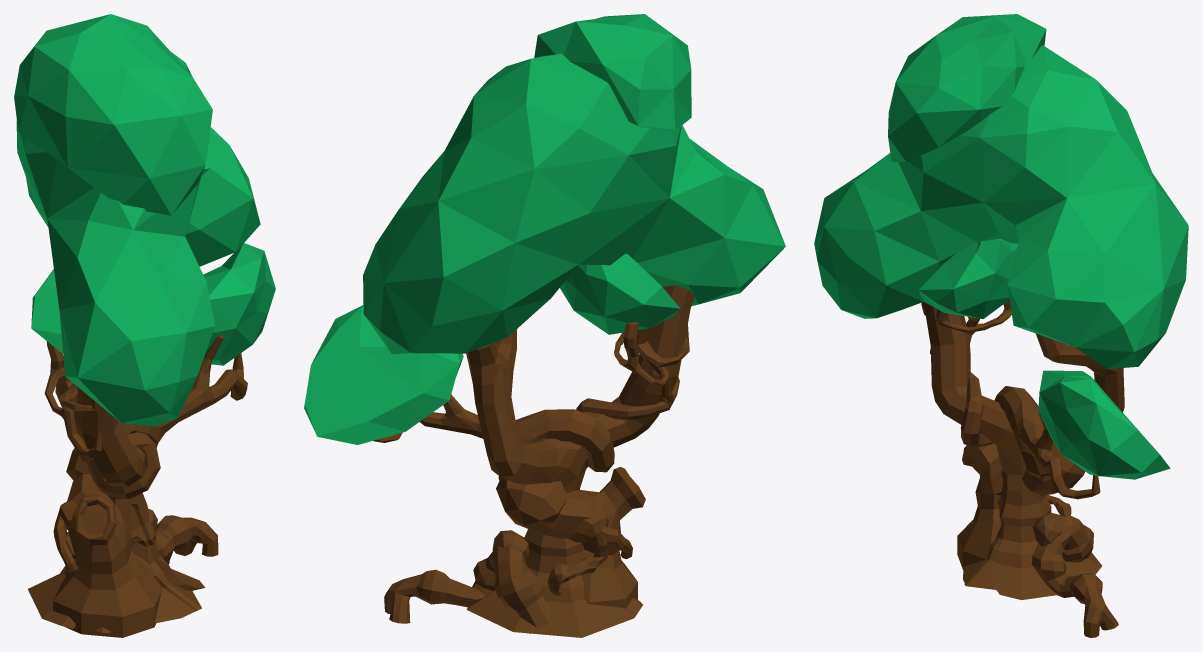
Rendered from Alber_bello2.glb.
3 renders of one model, left to right at view 1: azimuth 30°, elevation 25°; view 2: azimuth 150°, elevation 25°; view 3: azimuth 270°, elevation 25°, orthographic. The views are drawn at different scales.
Parts seen in each view (by area): view 1: EM_Tree2a_LOD1; view 2: EM_Tree2a_LOD1; view 3: EM_Tree2a_LOD1.
Boxes of the visible parts, x1,y1,x2,y2 form: EM_Tree2a_LOD1: (14, 14, 275, 637); EM_Tree2a_LOD1: (304, 14, 785, 637); EM_Tree2a_LOD1: (814, 14, 1188, 637).
Bounding box in the file's own units: 5.9 × 10.06 × 6.3.
1 material, 1 textured.
